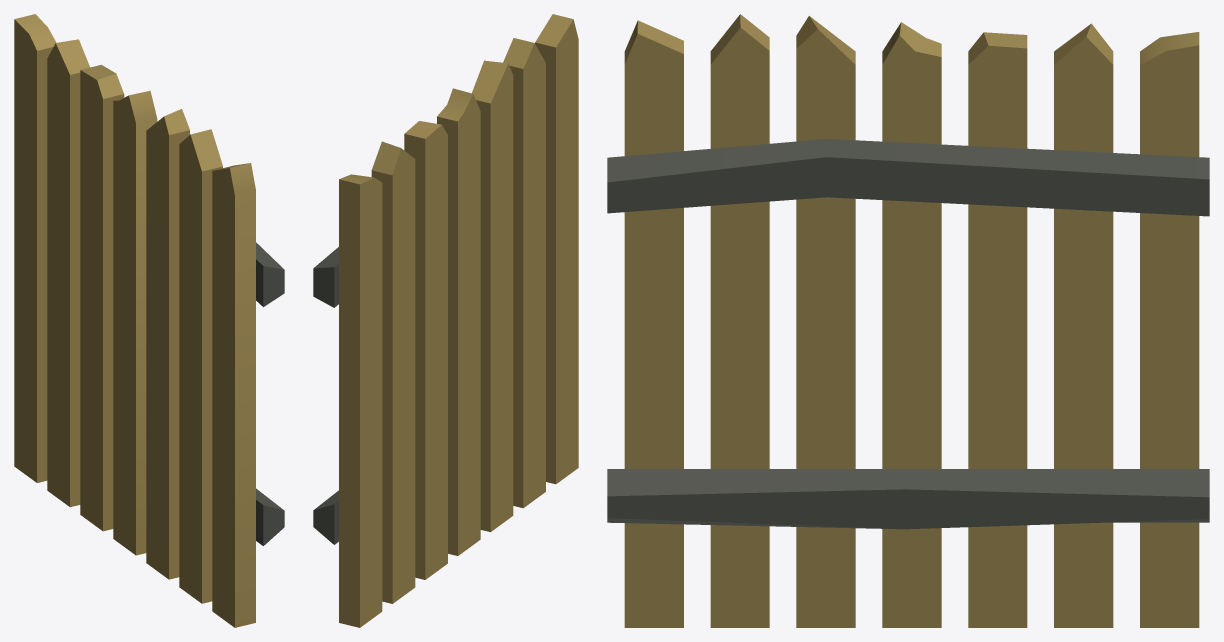
File: Fence.fbx
The picture shows the model from 3 angles, left to right: view 1: azimuth 30°, elevation 25°; view 2: azimuth 150°, elevation 25°; view 3: azimuth 270°, elevation 25°; orthographic projection. The views are drawn at different scales.
Visible parts, largest first — view 1: Cube, Cube.001; view 2: Cube, Cube.001; view 3: Cube, Cube.001.
Boxes of the visible parts, box(x1,y1,x2,y2) form: Cube: box(14, 14, 255, 627); Cube.001: box(256, 242, 284, 545); Cube: box(339, 14, 578, 627); Cube.001: box(313, 247, 338, 544); Cube: box(624, 14, 1199, 627); Cube.001: box(607, 139, 1209, 529).
Bounding box in the file's own units: 21.59 × 221 × 201.
